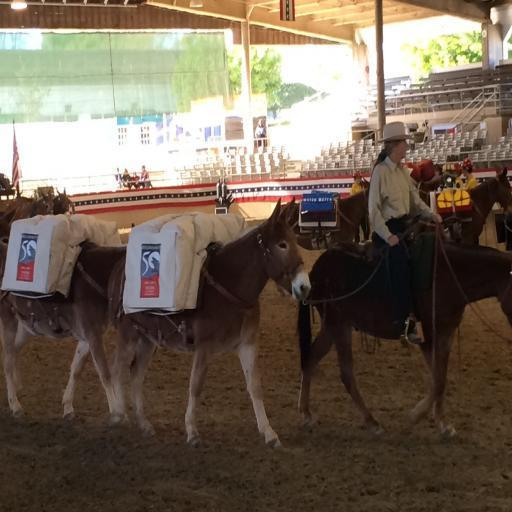horse: (284, 230, 512, 448)
